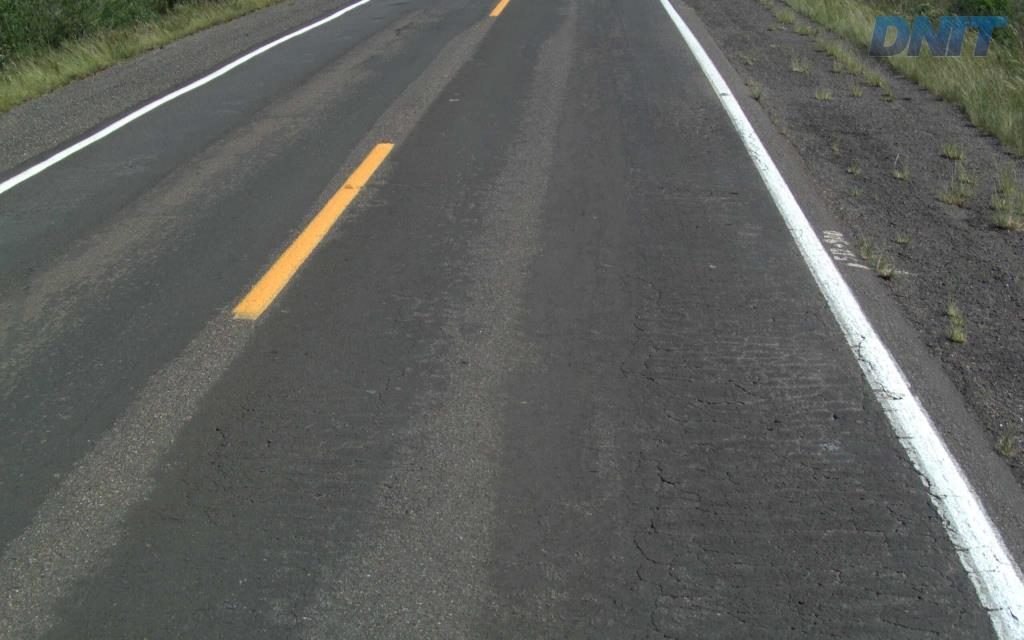crack: (782, 589, 828, 639), (726, 590, 764, 627)
